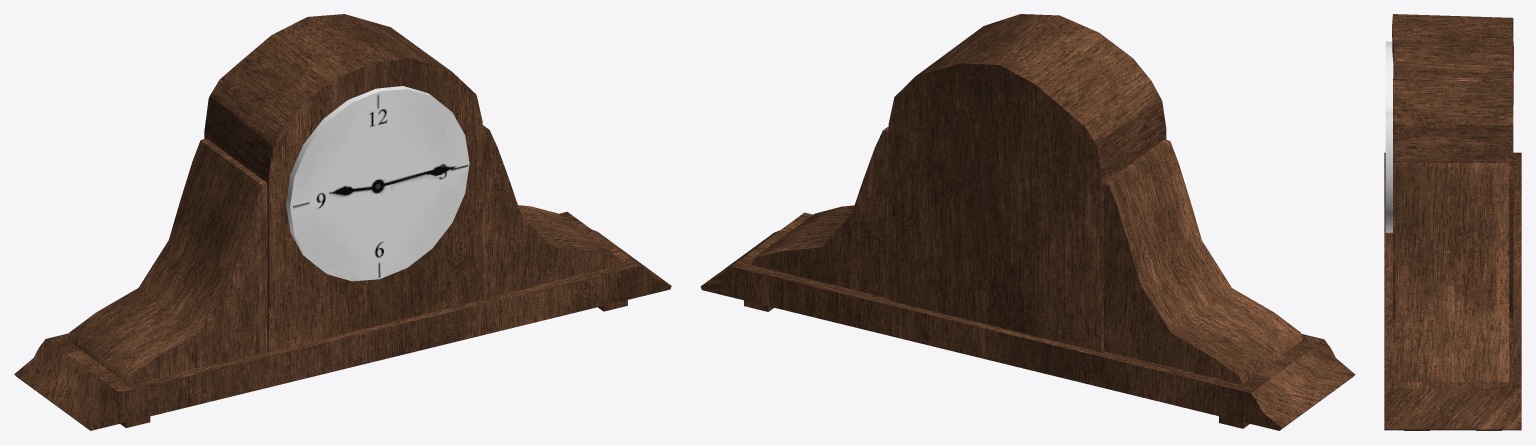
The model's file is clock_gltf_export.glb.
3 views of the same model, side by side, from view 1: azimuth 30°, elevation 25°; view 2: azimuth 150°, elevation 25°; view 3: azimuth 270°, elevation 25° (orthographic). The views are drawn at different scales.
Parts seen in each view (by area): view 1: clockobj; view 2: clockobj; view 3: clockobj.
Part boxes in pixels (x1,y1,x2,y2): clockobj: [14, 14, 671, 430]; clockobj: [700, 14, 1355, 430]; clockobj: [1384, 14, 1521, 430].
Bounding box in the file's own units: 52.41 × 26.71 × 11.5.
1 material, 1 textured.
